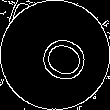O_NW: (23, 25, 87, 85)
